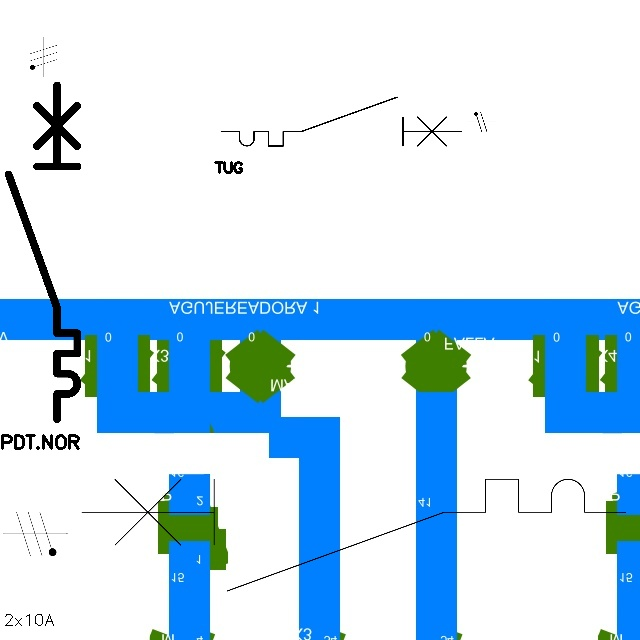interruptor_termomagnetico: (67, 465, 639, 605), (0, 76, 86, 427), (215, 91, 467, 152)
